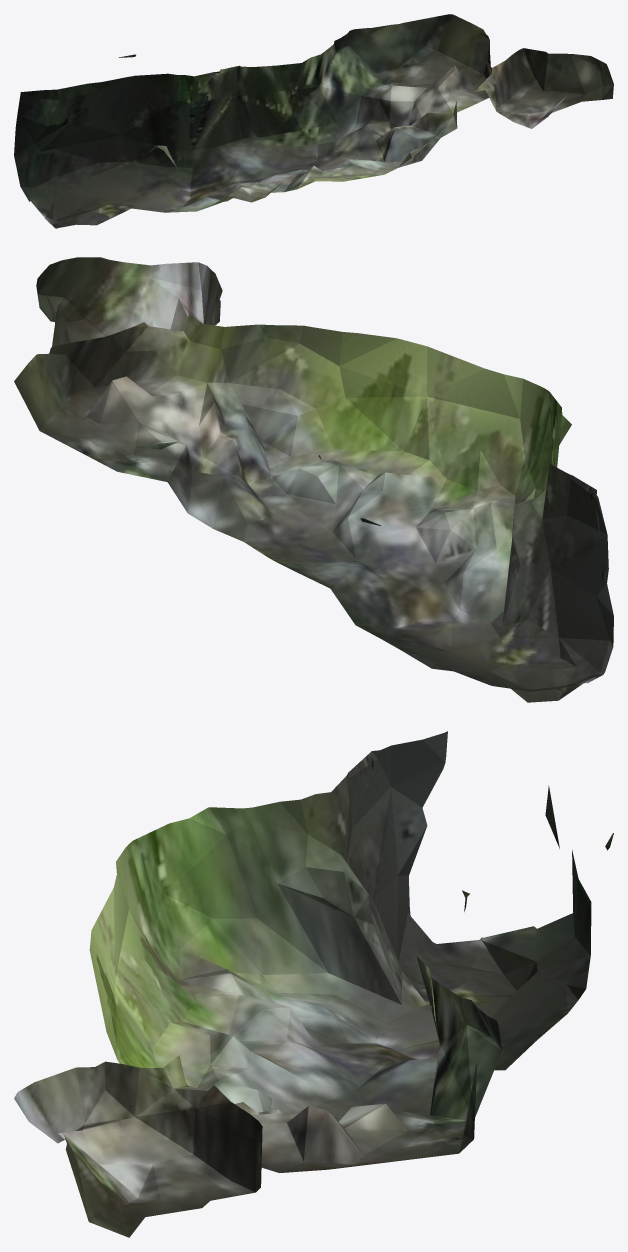
3 views of the same model, one above another, from view 1: azimuth 30°, elevation 25°; view 2: azimuth 150°, elevation 25°; view 3: azimuth 270°, elevation 25° (orthographic). The views are drawn at different scales.
Bounding box in the file's own units: 23 × 5.64 × 13.08.
Materials: 2 (2 with a texture image).
